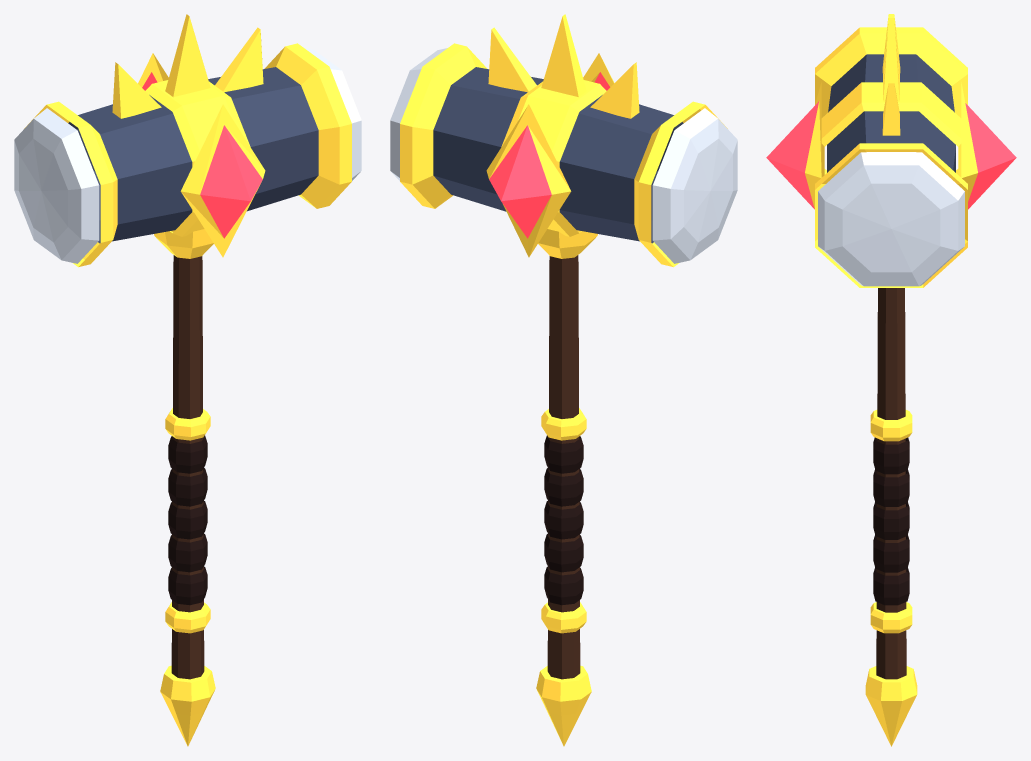
File: sky_hammer_red.glb
3 views of the same model, side by side, from view 1: azimuth 30°, elevation 25°; view 2: azimuth 150°, elevation 25°; view 3: azimuth 270°, elevation 25° (orthographic).
Visible parts, largest first — view 1: skybreaker; view 2: skybreaker; view 3: skybreaker.
Part boxes in pixels (x1,y1,x2,y2): skybreaker: [14, 14, 361, 746]; skybreaker: [390, 14, 737, 746]; skybreaker: [766, 14, 1016, 746].
Size of the model in its own units: 0.7 by 1.67 by 0.52.
